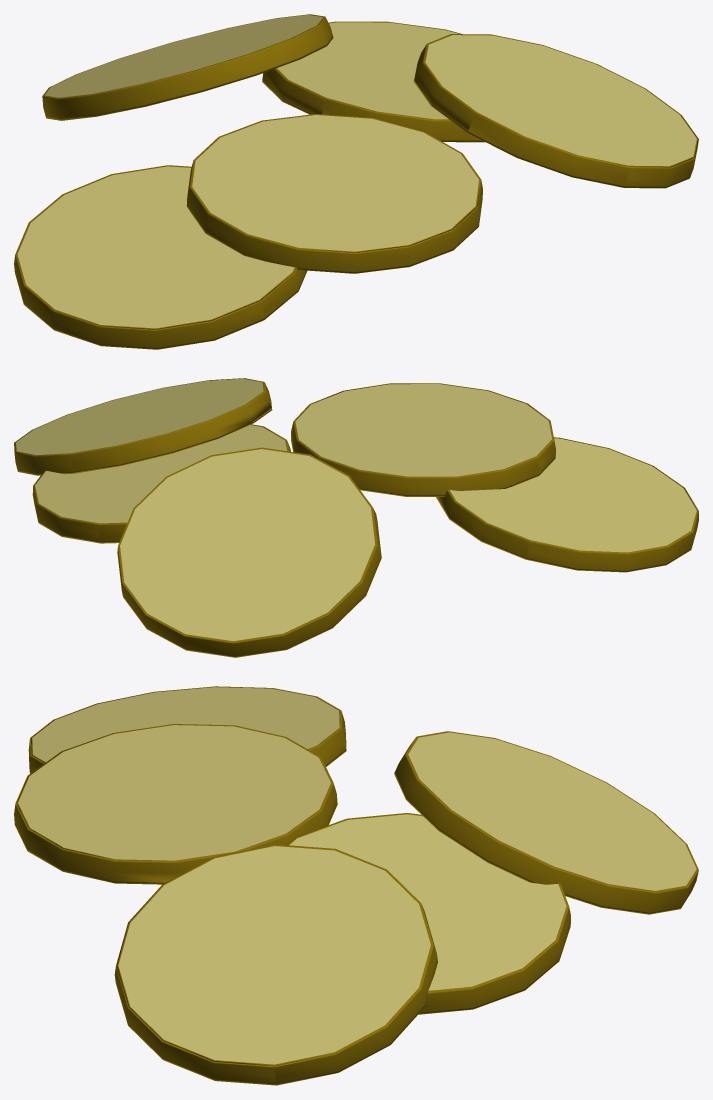
Rendered from pickle.glb.
The picture shows the model from 3 angles, top to bottom: view 1: azimuth 30°, elevation 25°; view 2: azimuth 150°, elevation 25°; view 3: azimuth 270°, elevation 25°; orthographic projection. The views are drawn at different scales.
Visible parts, largest first — view 1: pickle; view 2: pickle; view 3: pickle.
Boxes of the visible parts, <box> form: pickle: <box>14,14,698,349</box>; pickle: <box>14,378,698,657</box>; pickle: <box>14,686,698,1085</box>.
Size of the model in its own units: 0.5924 by 0.1062 by 0.4736.
